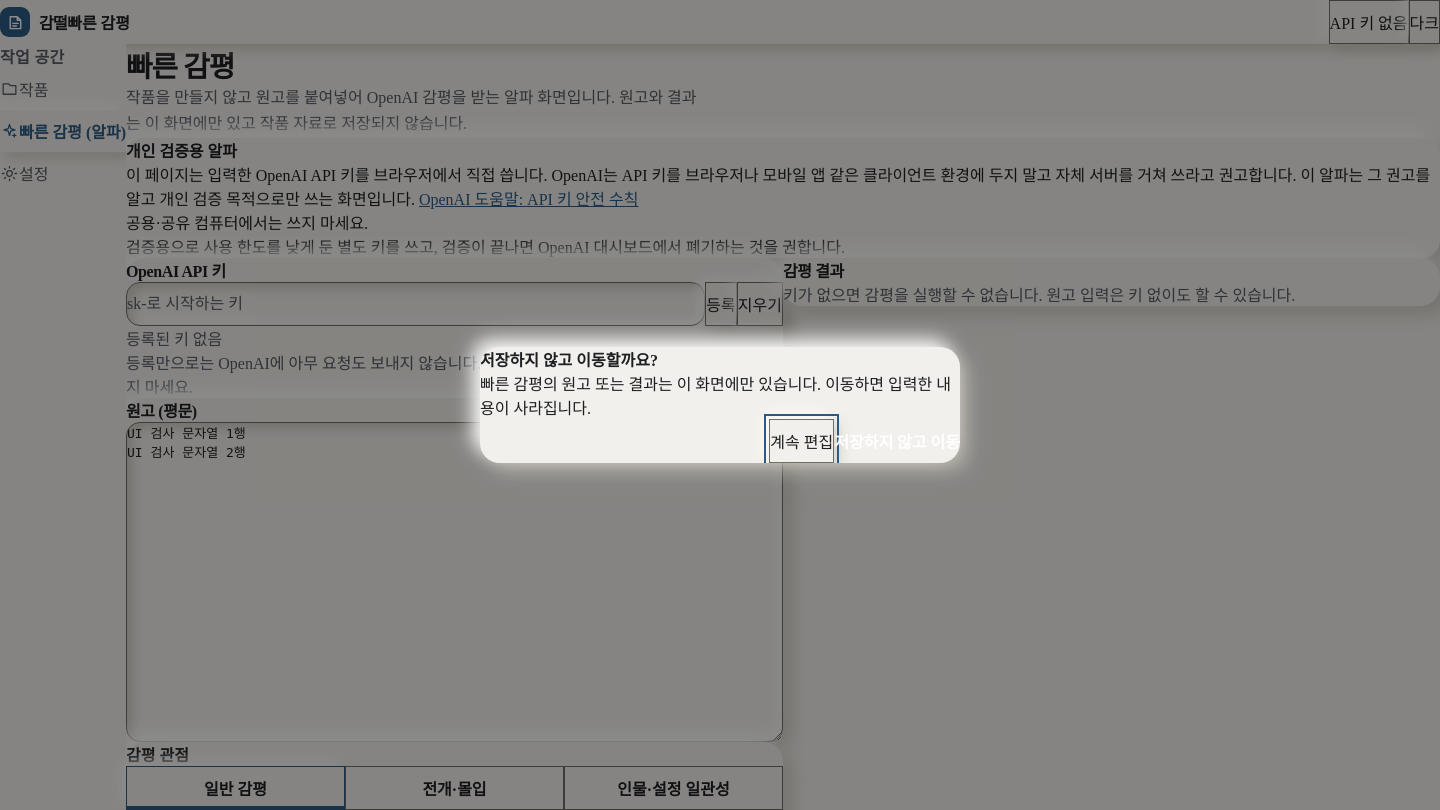
빠른 감평의 메모리 전용 원고와 결과 보호 › 질의 변경을 확인해도 유지된 감평 화면은 다음 이탈을 다시 막고, 언마운트 후 차단기를 해제한다
Earlier steps of the test are not shown.
Later steps or results of the test are not shown.
Click the button "저장하지 않고 이동" at point(897, 441), box [834,419,960,463]
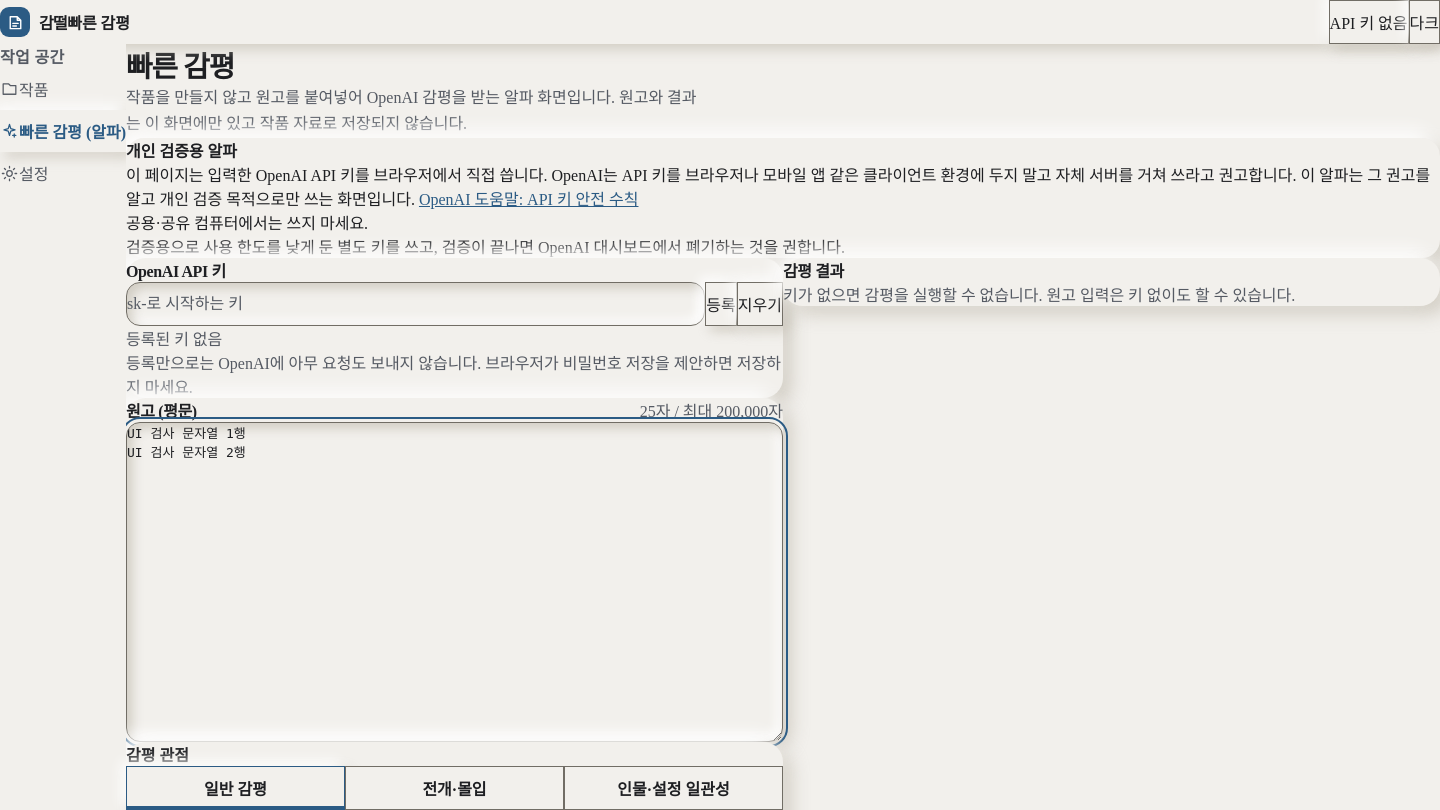
Click the link "작품" at point(24, 89), box [0,80,48,99]
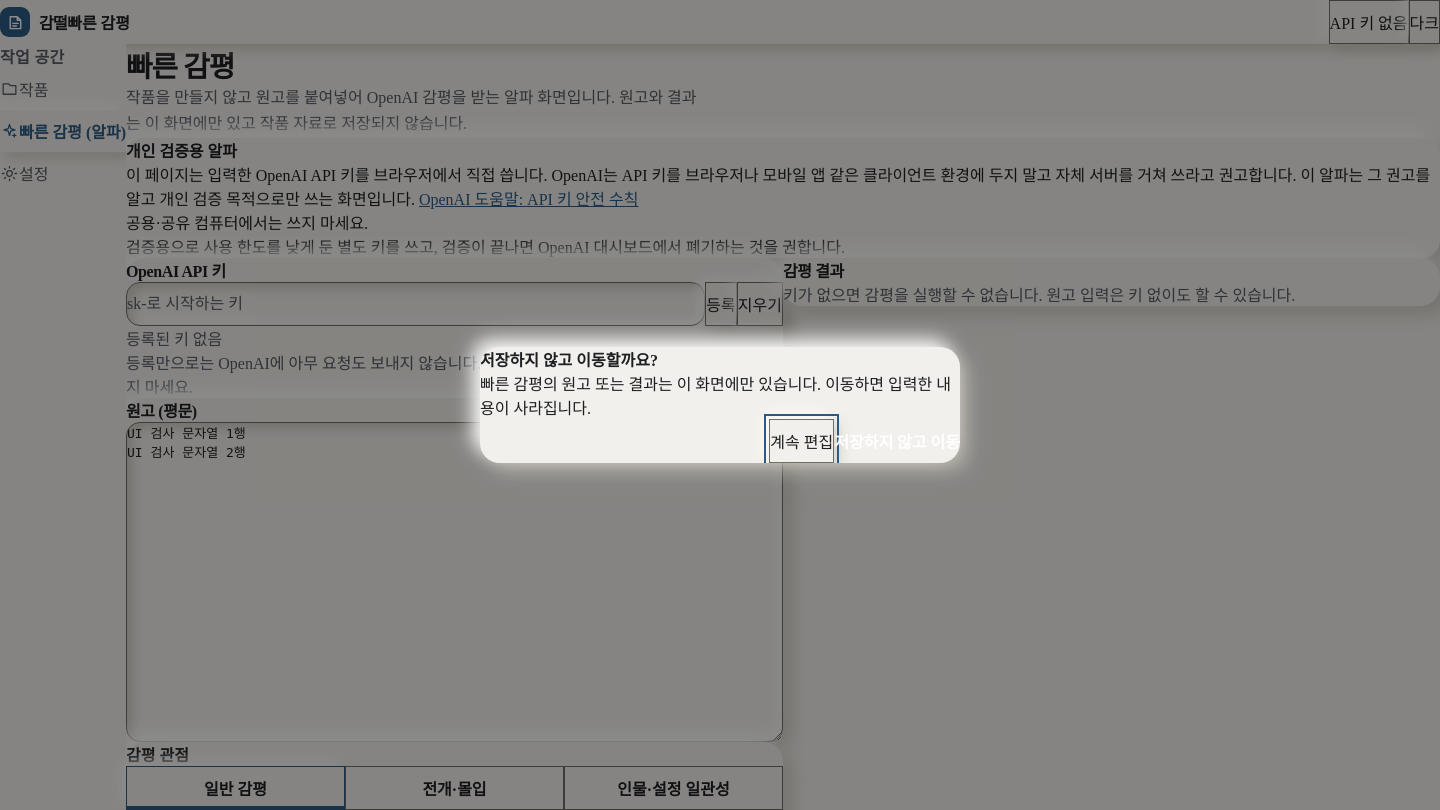
Expected: the dialog is shown, [480,347,960,463]
